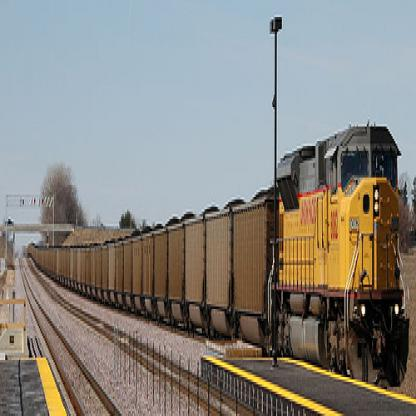train: (26, 119, 409, 387)
